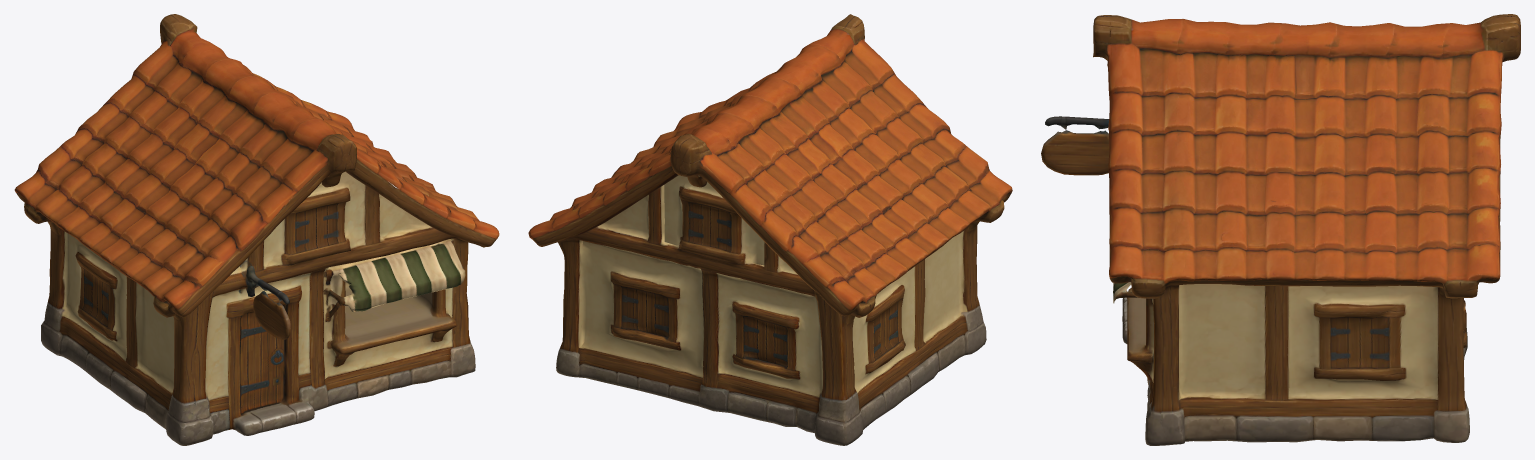
Rendered from village_shop.glb.
3 views of the same model, side by side, from view 1: azimuth 30°, elevation 25°; view 2: azimuth 150°, elevation 25°; view 3: azimuth 270°, elevation 25° (orthographic). The views are drawn at different scales.
Parts seen in each view (by area): view 1: tripo_node_3bb45751; view 2: tripo_node_3bb45751; view 3: tripo_node_3bb45751.
Boxes of the visible parts, bbox=[...] form: tripo_node_3bb45751: bbox=[14, 14, 499, 445]; tripo_node_3bb45751: bbox=[528, 14, 1012, 445]; tripo_node_3bb45751: bbox=[1041, 14, 1520, 445].
Bounding box in the file's own units: 93.42 × 76.64 × 97.63.
1 material, 1 textured.
